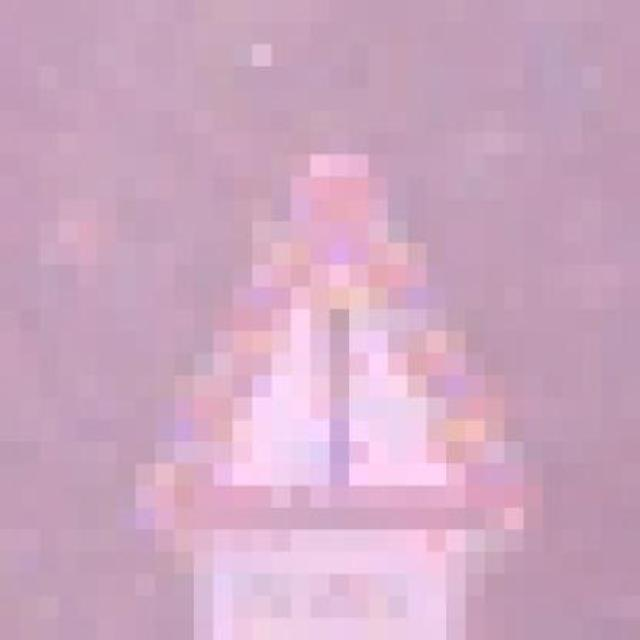Attention Please-: (97, 89, 563, 552)
